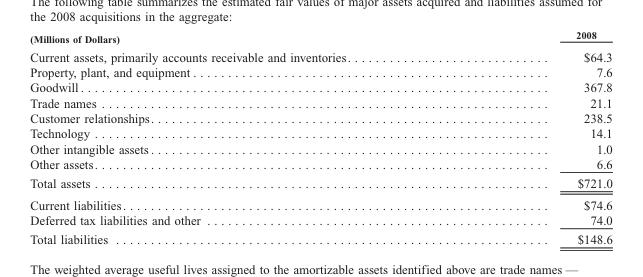table: (29, 28, 611, 246)
table column: (29, 28, 462, 246), (462, 28, 611, 246)
table row: (29, 173, 611, 193), (29, 193, 611, 212), (29, 28, 611, 46), (29, 46, 611, 64), (29, 156, 611, 173), (29, 212, 611, 229), (29, 229, 611, 246), (29, 94, 611, 110), (29, 140, 611, 156), (29, 64, 611, 79), (29, 79, 611, 94), (29, 110, 611, 125), (29, 125, 611, 140)
